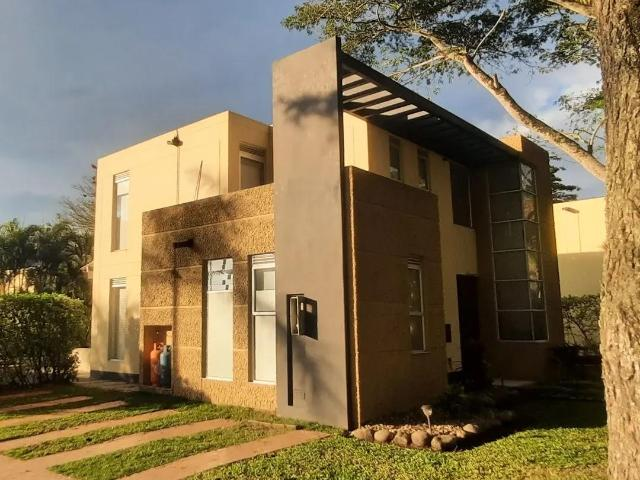House: (92, 69, 557, 433)
